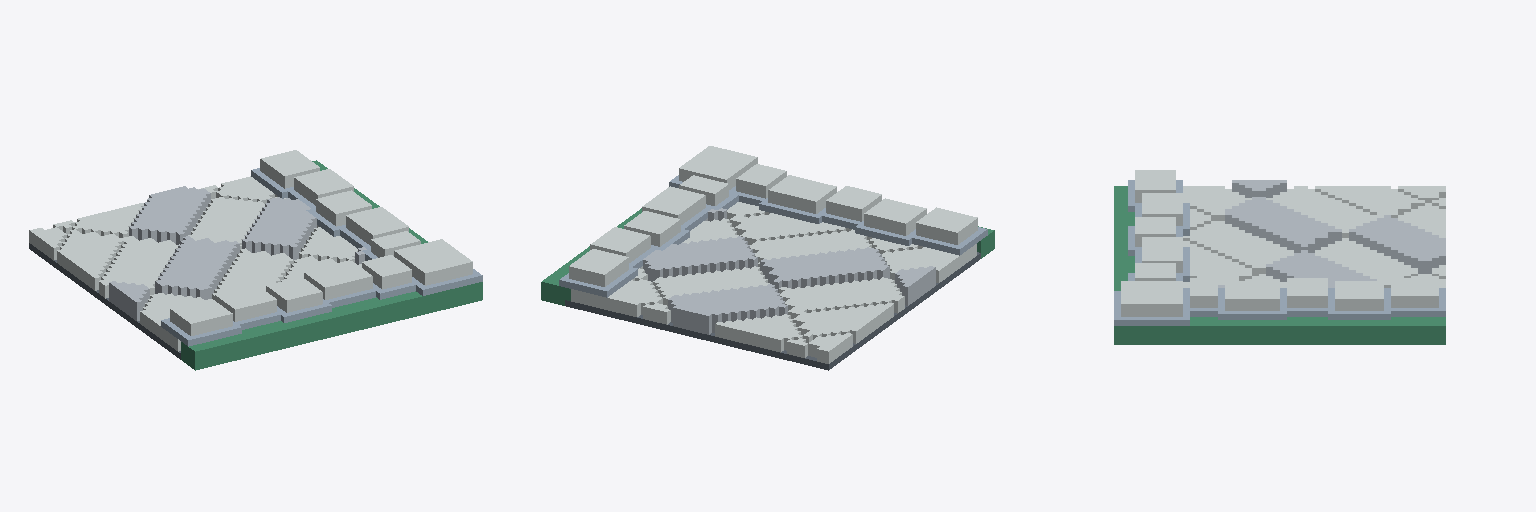
3 renders of one model, left to right at view 1: azimuth 30°, elevation 25°; view 2: azimuth 150°, elevation 25°; view 3: azimuth 270°, elevation 25°, orthographic.
Visible parts, largest first — view 1: object 1; view 2: object 1; view 3: object 1.
Part boxes in pixels (bbox=[...]): object 1: bbox=[29, 150, 482, 370]; object 1: bbox=[541, 146, 994, 370]; object 1: bbox=[1114, 170, 1445, 344].
Size of the model in its own units: 4.8 by 0.6 by 4.8.
Materials: 1 (1 with a texture image).